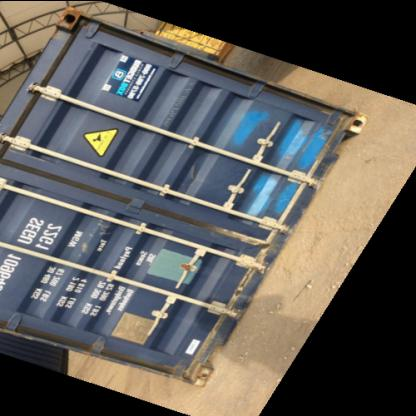Damage: (185, 308, 229, 380), (309, 113, 355, 168), (213, 223, 277, 254), (227, 264, 259, 318)
